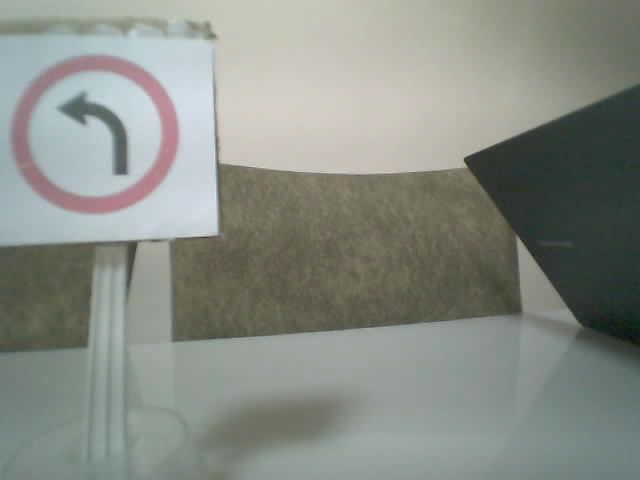R-25a_esquerda: (10, 54, 179, 214)
